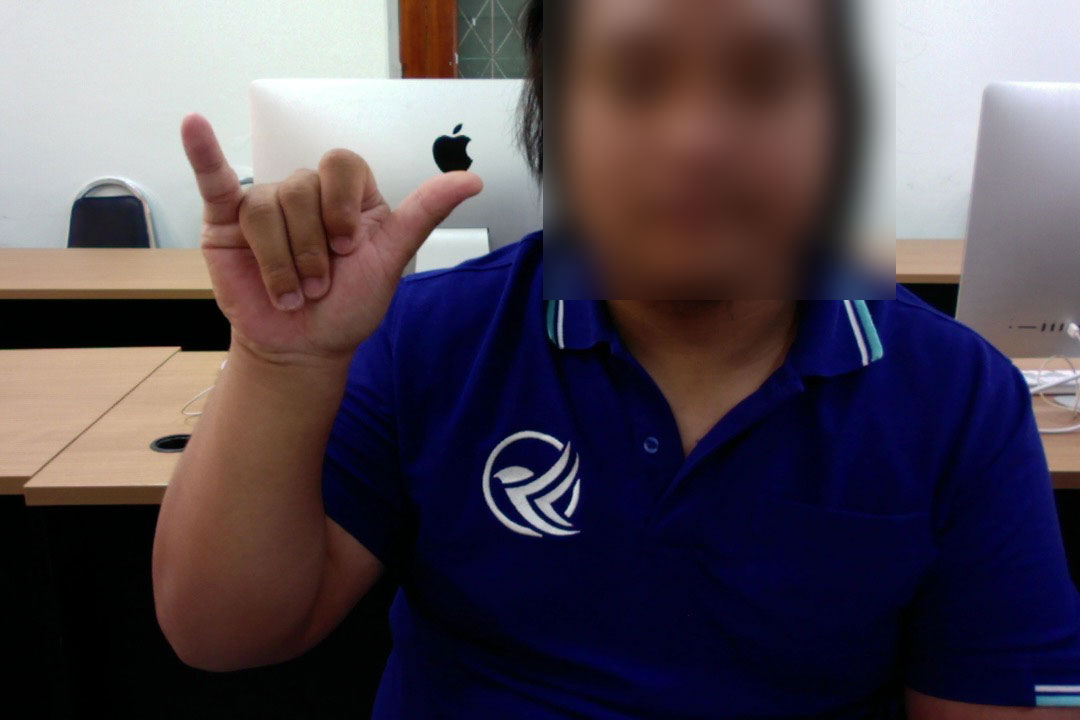yor: (171, 98, 490, 385)
